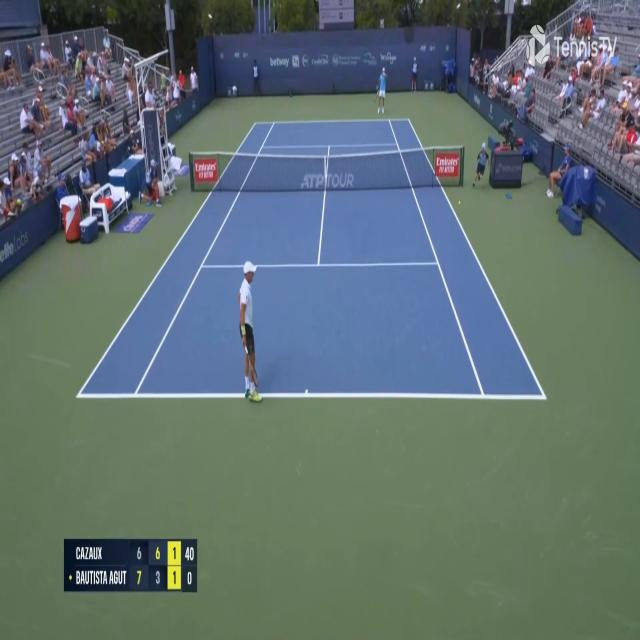tennis-player: (236, 257, 260, 406), (374, 66, 388, 116)
